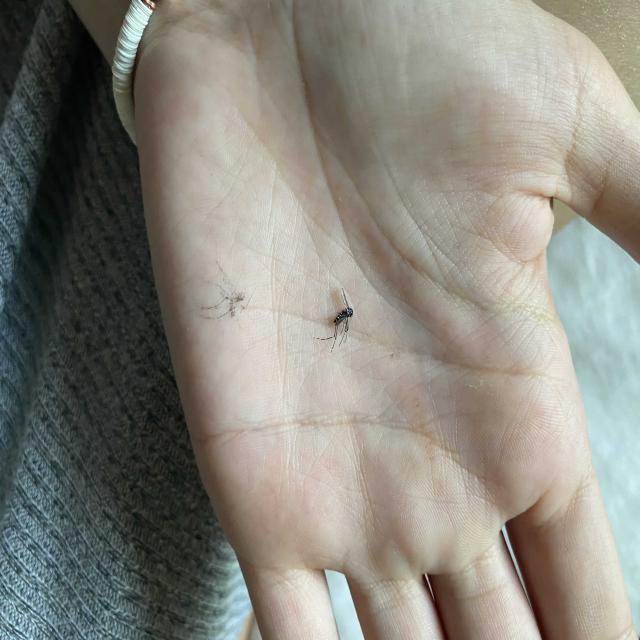albopictus: (307, 284, 357, 356)
